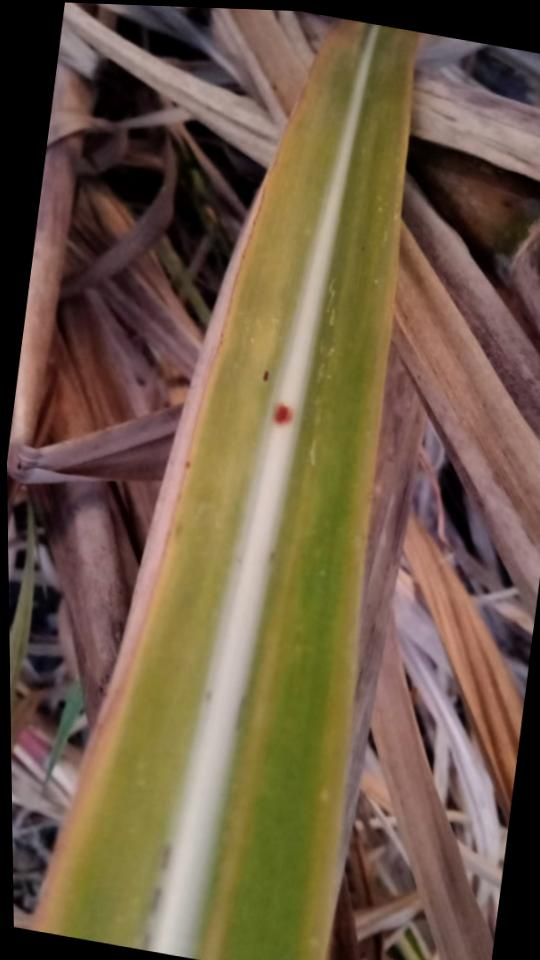RedRot: (273, 404, 294, 425)
Rust: (262, 368, 270, 383)
Yellow: (28, 17, 365, 932)
